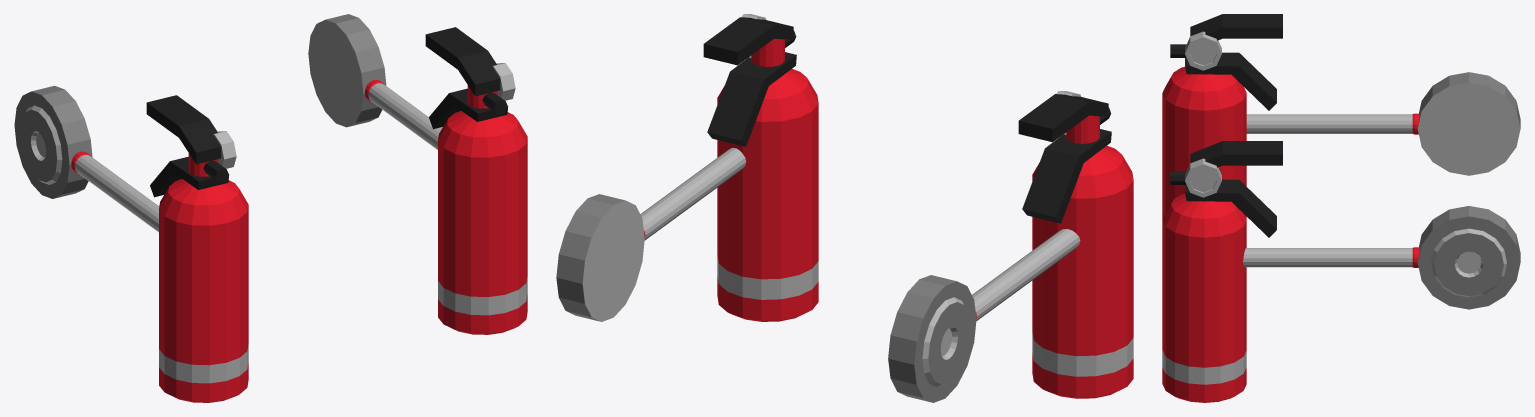
The model's file is armExtinguisher.fbx.
The picture shows the model from 3 angles, left to right: view 1: azimuth 30°, elevation 25°; view 2: azimuth 150°, elevation 25°; view 3: azimuth 270°, elevation 25°; orthographic projection. The views are drawn at different scales.
Parts seen in each view (by area): view 1: Arm - Extinguishers; view 2: Arm - Extinguishers; view 3: Arm - Extinguishers.
Boxes of the visible parts, <box> form: Arm - Extinguishers: <box>14,14,527,402</box>; Arm - Extinguishers: <box>556,14,1133,402</box>; Arm - Extinguishers: <box>1162,14,1520,402</box>.
Size of the model in its own units: 92.18 by 85.77 by 63.3.
